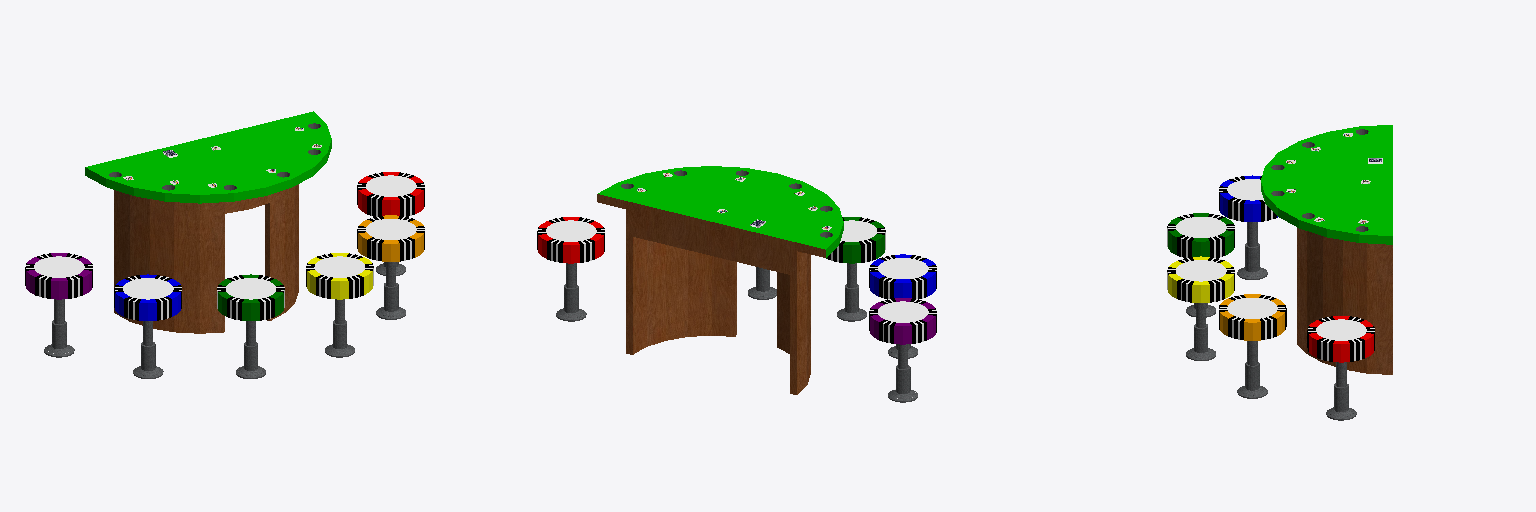
The picture shows the model from 3 angles: view 1: azimuth 30°, elevation 25°; view 2: azimuth 150°, elevation 25°; view 3: azimuth 270°, elevation 25°; orthographic projection.
Parts seen in each view (by area): view 1: Mesh124 Model, Mesh64 purple_poker_chip_stool1 Model, Mesh84 Component_8_1 Model, Mesh114 Component_11_1 Model, Mesh94 Component_9_1 Model, Mesh104 Component_10_1 Model, Mesh74 Component_7_1 Model; view 2: Mesh124 Model, Mesh74 Component_7_1 Model, Mesh64 purple_poker_chip_stool1 Model, Mesh114 Component_11_1 Model, Mesh104 Component_10_1 Model, Mesh94 Component_9_1 Model; view 3: Mesh124 Model, Mesh84 Component_8_1 Model, Mesh74 Component_7_1 Model, Mesh94 Component_9_1 Model, Mesh114 Component_11_1 Model, Mesh104 Component_10_1 Model.
Part boxes in pixels (bbox=[...]): Mesh124 Model: bbox=[85, 111, 331, 333]; Mesh64 purple_poker_chip_stool1 Model: bbox=[25, 253, 92, 357]; Mesh84 Component_8_1 Model: bbox=[357, 215, 424, 319]; Mesh114 Component_11_1 Model: bbox=[114, 274, 181, 378]; Mesh94 Component_9_1 Model: bbox=[306, 253, 373, 357]; Mesh104 Component_10_1 Model: bbox=[217, 274, 284, 378]; Mesh74 Component_7_1 Model: bbox=[357, 172, 424, 275]; Mesh124 Model: bbox=[597, 166, 843, 394]; Mesh74 Component_7_1 Model: bbox=[537, 217, 604, 321]; Mesh64 purple_poker_chip_stool1 Model: bbox=[869, 298, 936, 402]; Mesh114 Component_11_1 Model: bbox=[869, 254, 936, 358]; Mesh104 Component_10_1 Model: bbox=[826, 217, 885, 321]; Mesh94 Component_9_1 Model: bbox=[748, 267, 776, 299]; Mesh124 Model: bbox=[1261, 125, 1392, 374]; Mesh84 Component_8_1 Model: bbox=[1219, 294, 1286, 398]; Mesh74 Component_7_1 Model: bbox=[1307, 316, 1374, 420]; Mesh94 Component_9_1 Model: bbox=[1167, 256, 1234, 360]; Mesh114 Component_11_1 Model: bbox=[1219, 175, 1277, 279]; Mesh104 Component_10_1 Model: bbox=[1167, 213, 1234, 317].
Size of the model in its own units: 332 by 125 by 166.
17 materials, 6 textured.